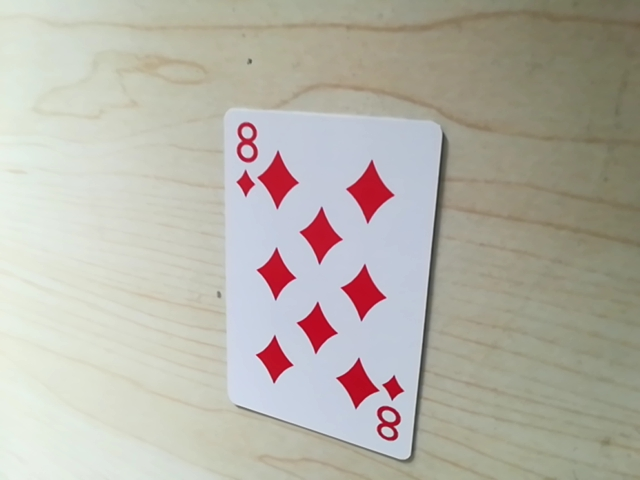fk 8: (227, 115, 271, 178), (368, 389, 408, 449)
